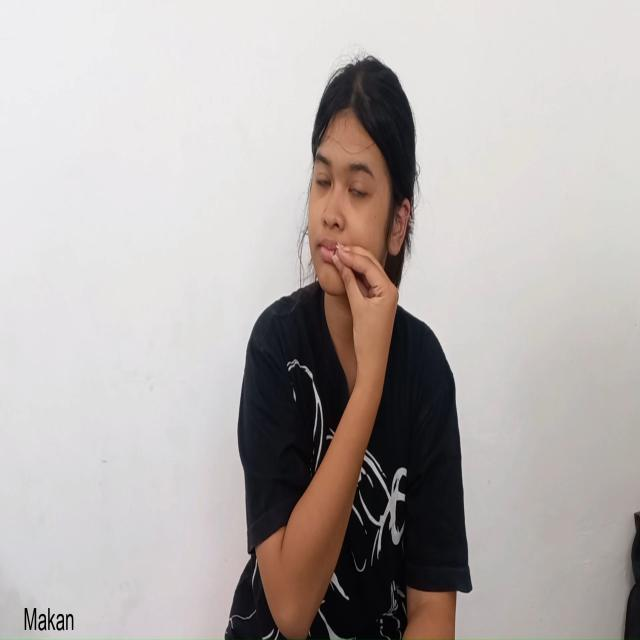Makan -BISINDO-: (307, 63, 411, 396)
